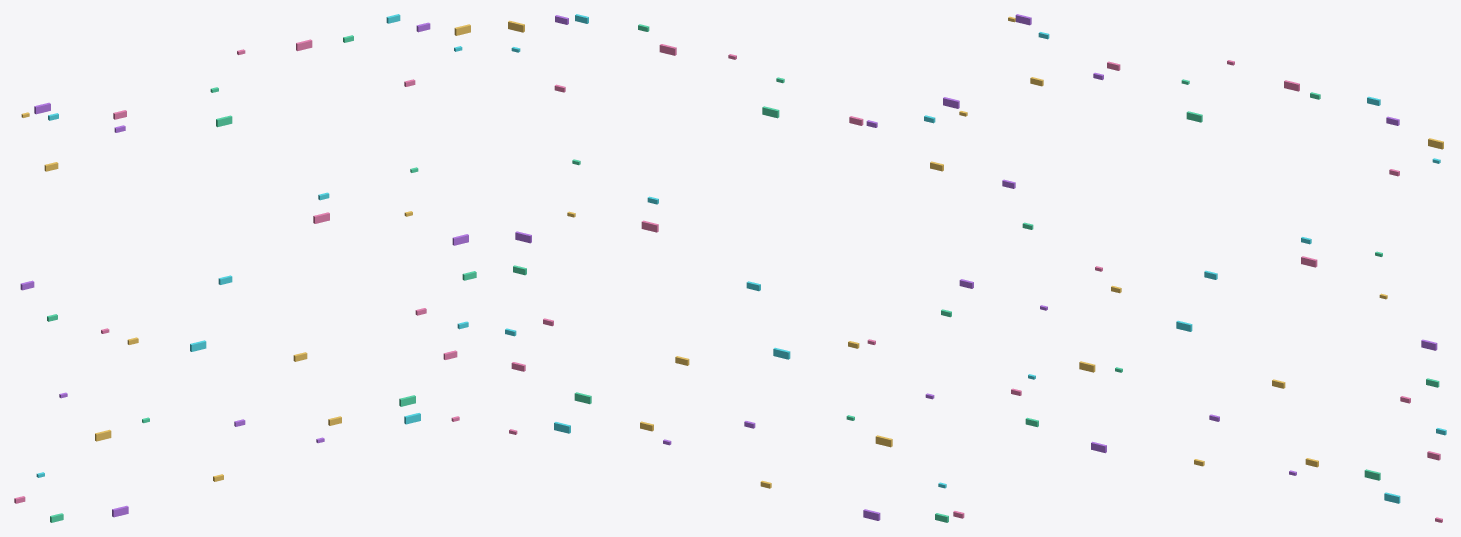
File: confetti.glb
3 views of the same model, side by side, from view 1: azimuth 30°, elevation 25°; view 2: azimuth 150°, elevation 25°; view 3: azimuth 330°, elevation 25° (orthographic). The views are drawn at different scales.
Size of the model in its own units: 4.08 by 3.71 by 0.185.
